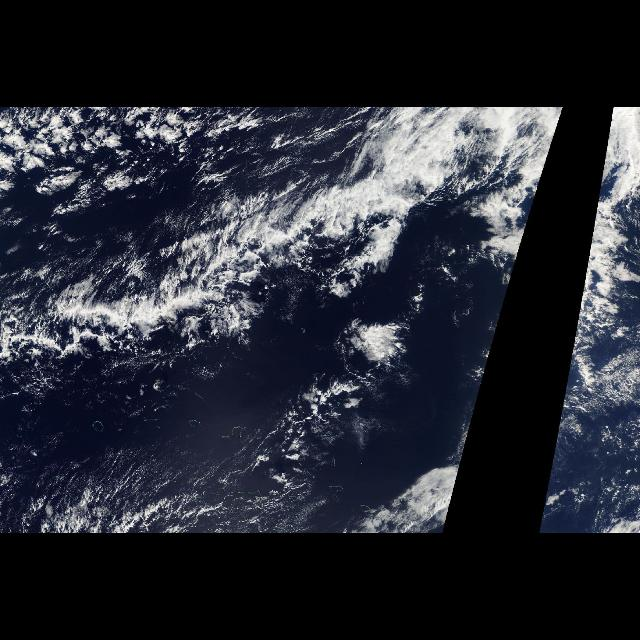Fish: (4, 161, 446, 377)
Sugar: (22, 440, 336, 526)
